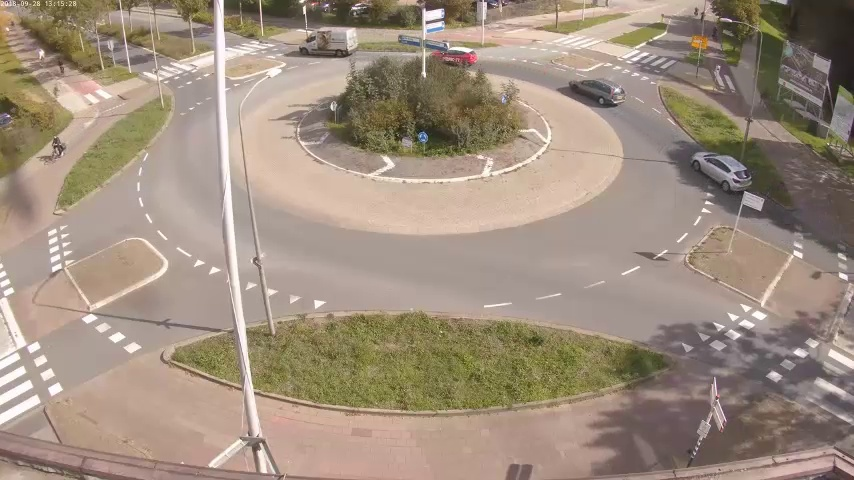bicycle: (48, 137, 64, 166)
car: (692, 149, 755, 193), (568, 79, 623, 106), (428, 45, 479, 71)
van: (302, 23, 359, 57)
